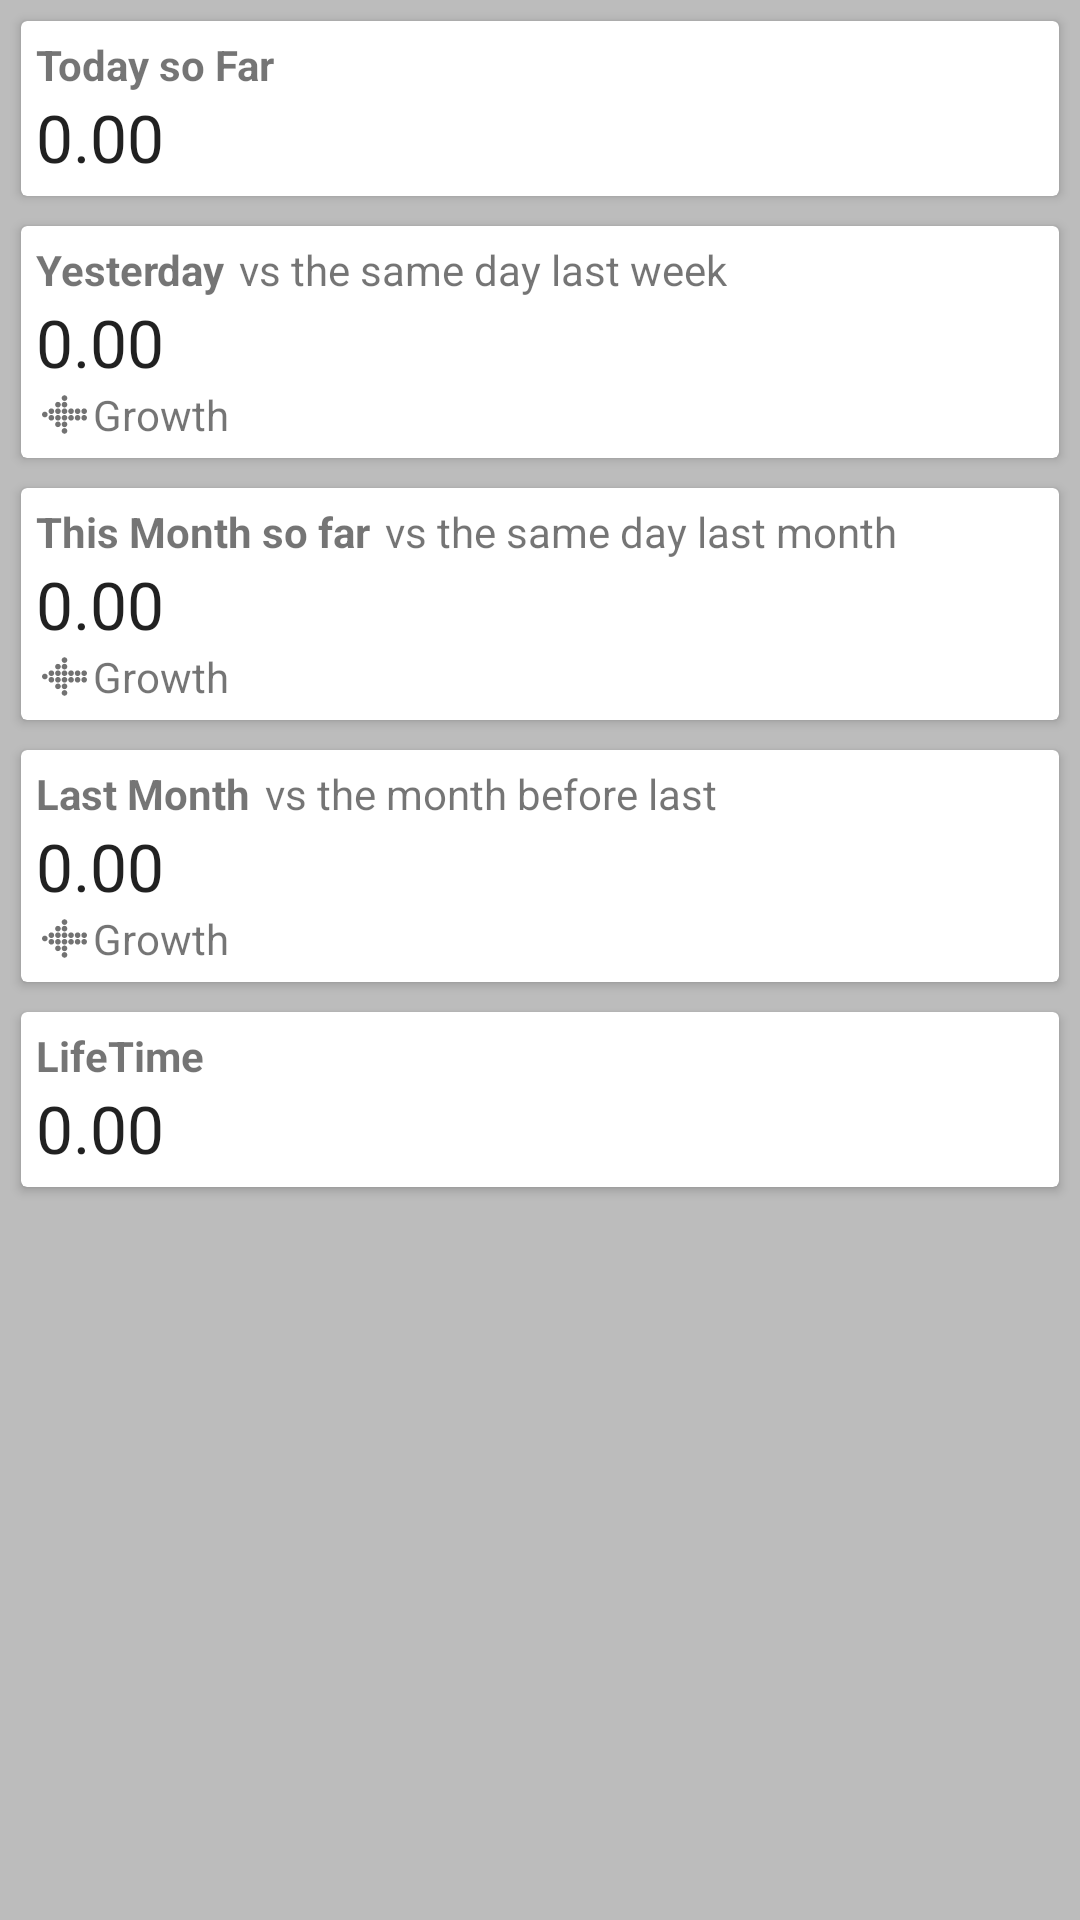

Icon bounding boxes for this 1080px×1920px phone screenshot, format (x1, y1, x2, y2):
arrow: (42, 395, 87, 434), (42, 657, 87, 696), (42, 919, 87, 958)
